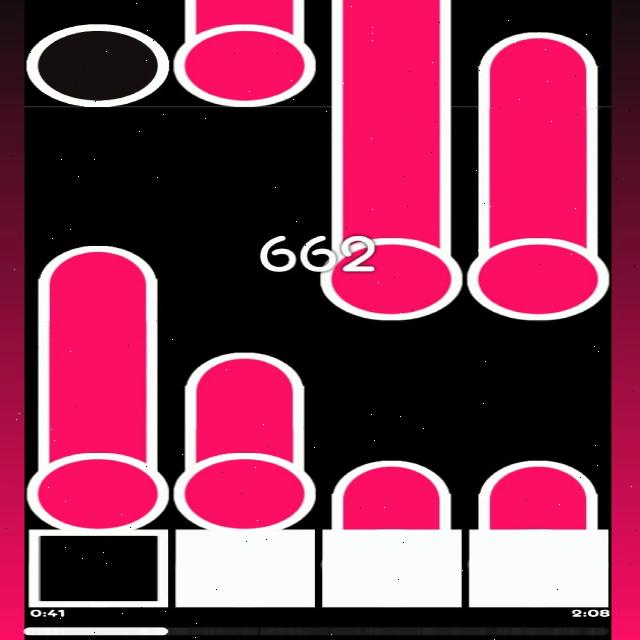end_hold: (29, 227, 166, 302), (175, 339, 316, 399), (469, 448, 604, 502), (325, 450, 460, 502), (472, 24, 607, 74)
note: (25, 21, 169, 107)
start_hold: (314, 221, 458, 319), (462, 224, 610, 319), (170, 438, 318, 529), (25, 438, 170, 530), (175, 18, 316, 106)
